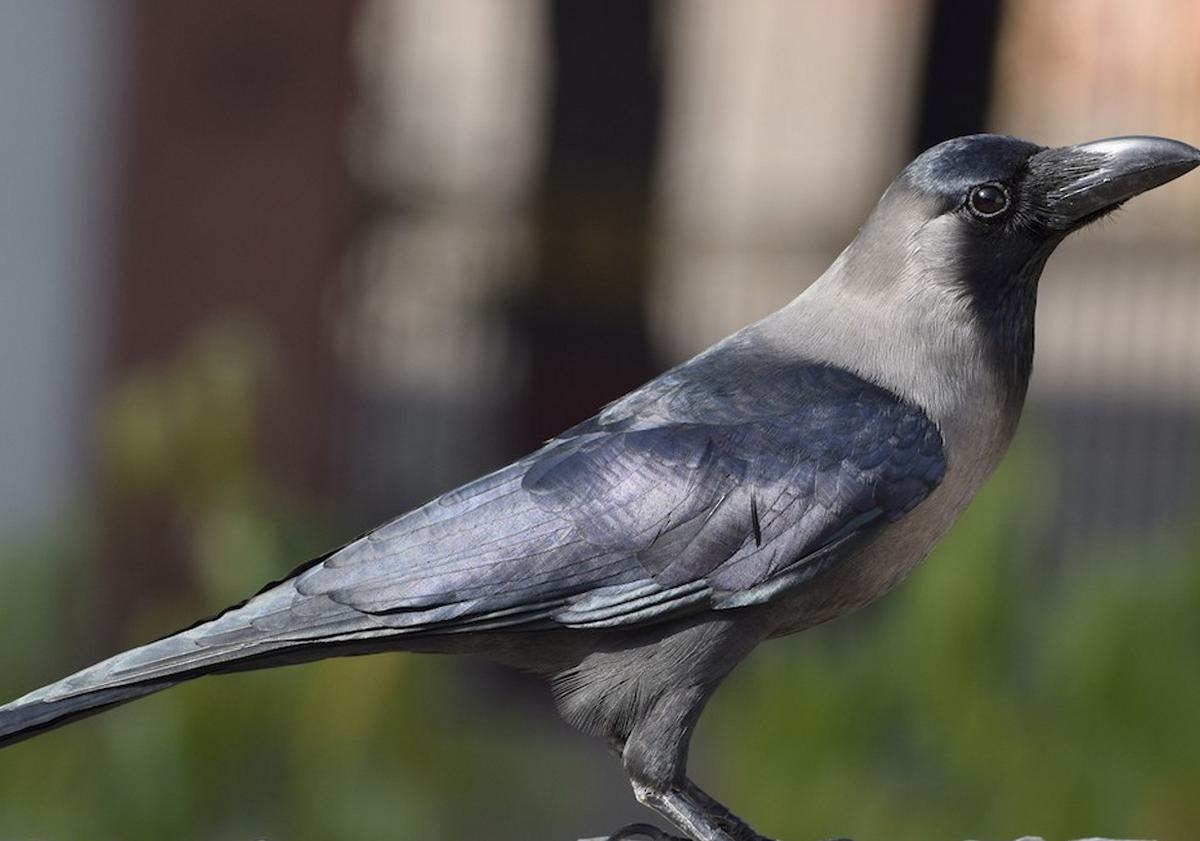crow: (5, 94, 1200, 837)
